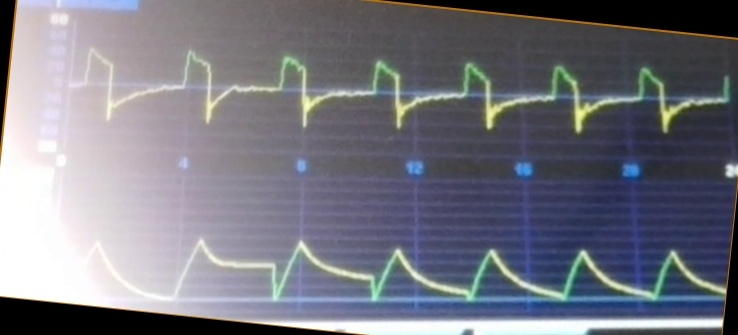Accumulation Flow: (74, 40, 732, 155)
Volume: (64, 216, 725, 306)
